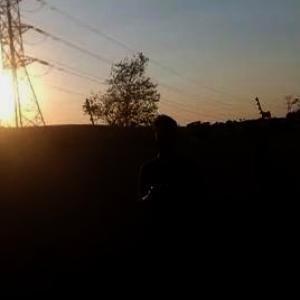follow: (132, 106, 209, 299)
